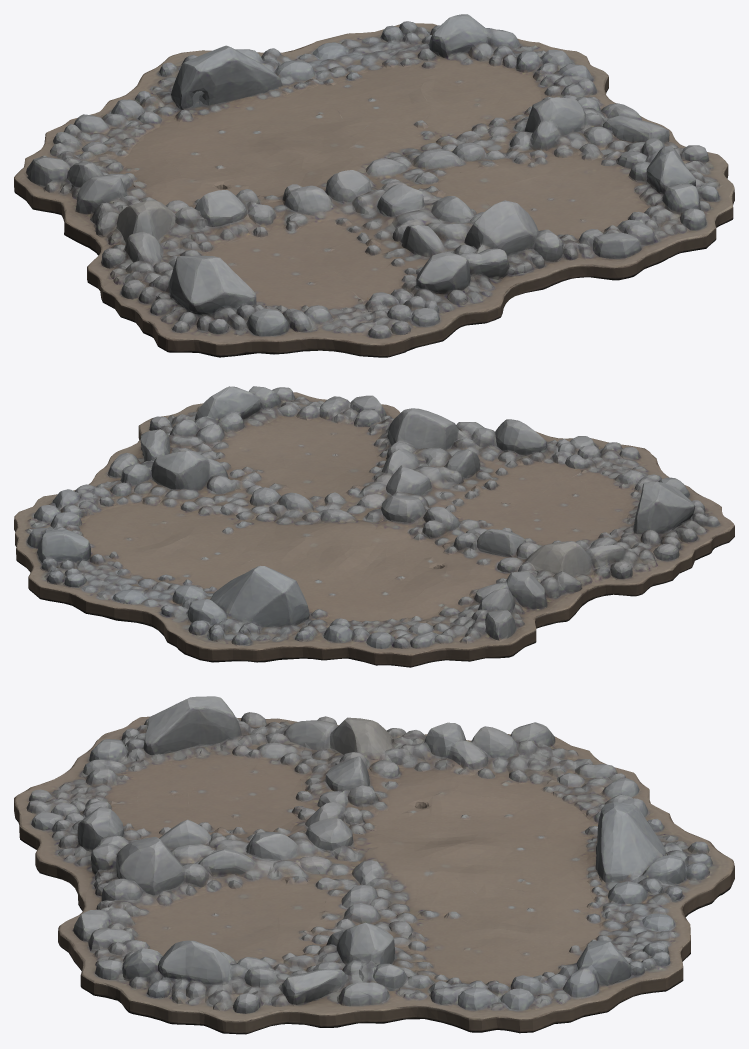
The picture shows the model from 3 angles, top to bottom: view 1: azimuth 30°, elevation 25°; view 2: azimuth 150°, elevation 25°; view 3: azimuth 270°, elevation 25°; orthographic projection. The views are drawn at different scales.
Parts seen in each view (by area): view 1: world; view 2: world; view 3: world.
Boxes of the visible parts, <box> form: world: <box>14,14,734,357</box>; world: <box>14,386,734,667</box>; world: <box>14,696,734,1034</box>.
Bounding box in the file's own units: 12 × 1.27 × 11.98.
1 material, 1 textured.
